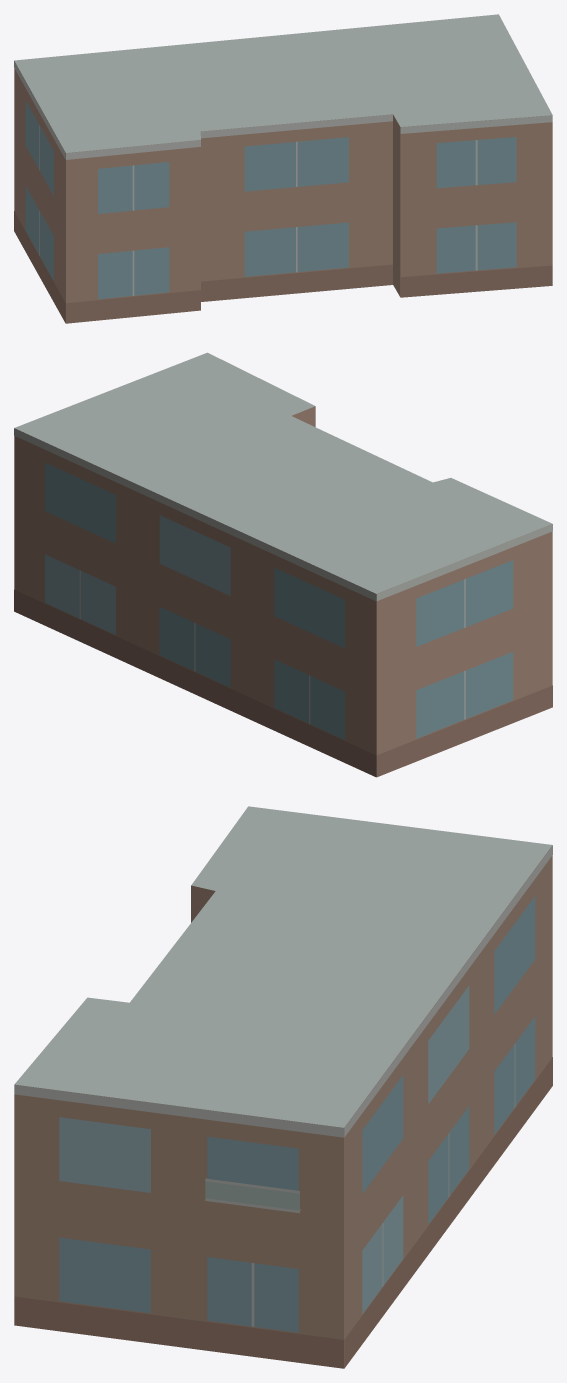
Rendered from survey-upis-32501437.glb.
3 renders of one model, top to bottom at view 1: azimuth 30°, elevation 25°; view 2: azimuth 150°, elevation 25°; view 3: azimuth 270°, elevation 25°, orthographic. The views are drawn at different scales.
Parts seen in each view (by area): view 1: survey-upis-32501437.tmp; view 2: survey-upis-32501437.tmp; view 3: survey-upis-32501437.tmp.
Part boxes in pixels (x1,y1,x2,y2): survey-upis-32501437.tmp: [14, 14, 552, 323]; survey-upis-32501437.tmp: [14, 352, 552, 777]; survey-upis-32501437.tmp: [14, 806, 552, 1368].
Bounding box in the file's own units: 14.91 × 5.2 × 10.55.
